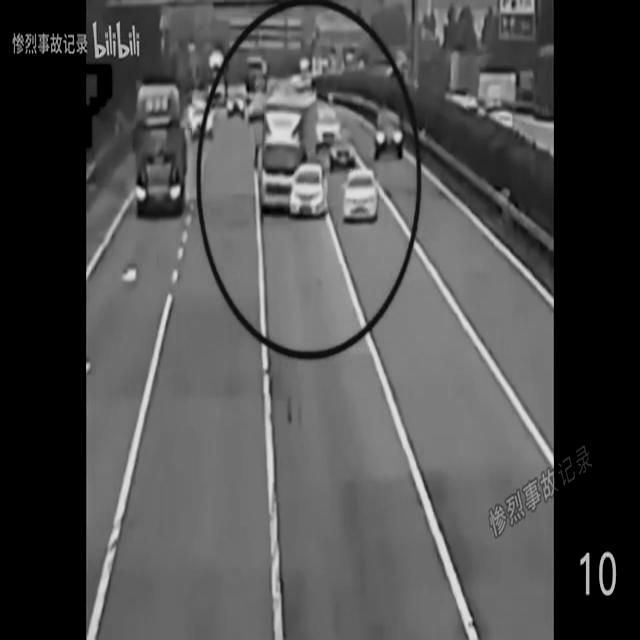accident: (256, 88, 330, 220)
non-accident: (136, 82, 214, 218), (342, 110, 406, 222), (292, 164, 382, 226), (190, 82, 250, 140)
